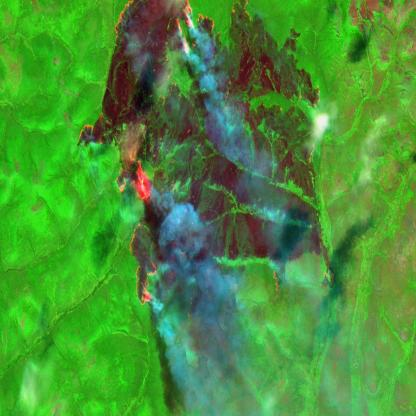fire: (76, 0, 252, 311)
